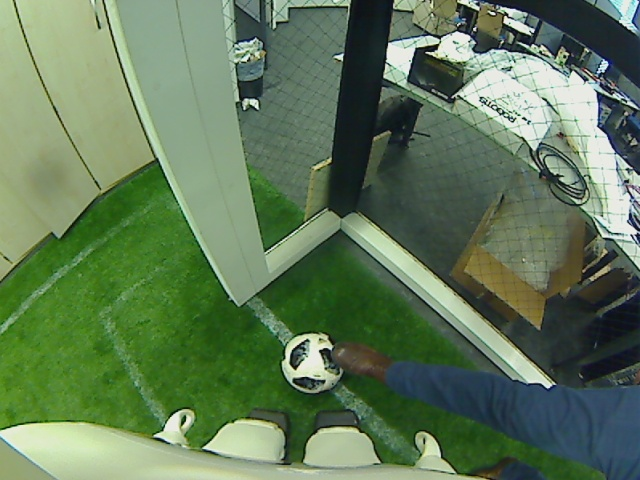ball: (281, 328, 341, 395)
